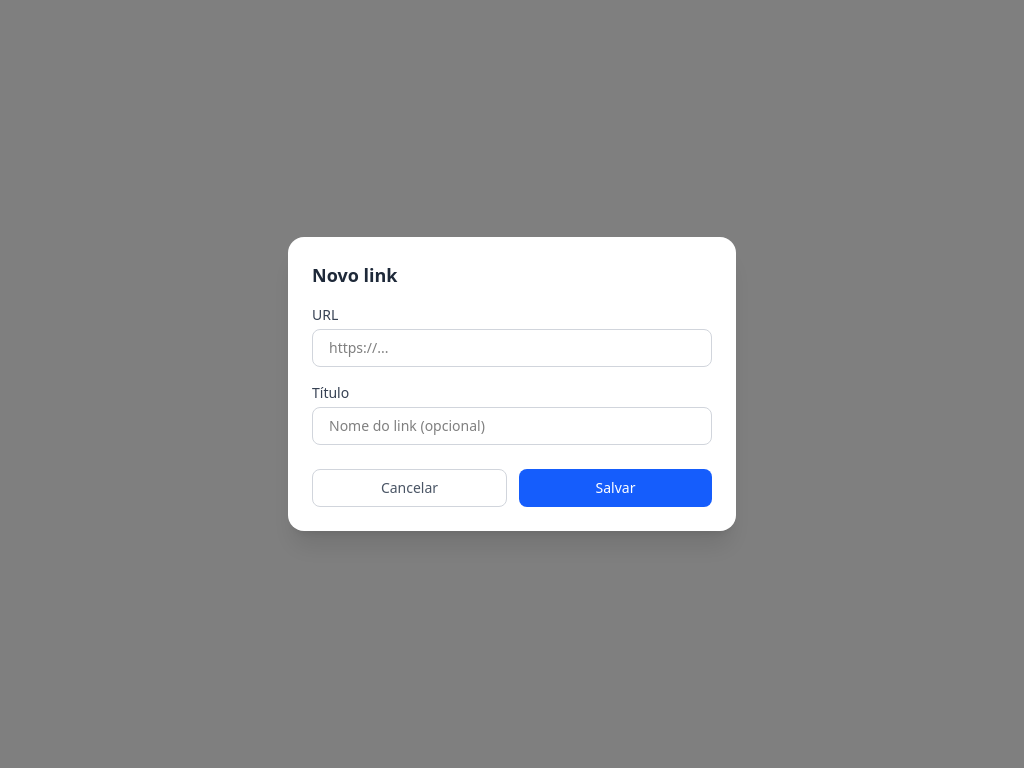
it: LinkModal › criação de link › deve exibir erro quando a API falhar
Type "https://github.com" into the field with placeholder "https://..." at (512, 348), box [312,329,712,367]
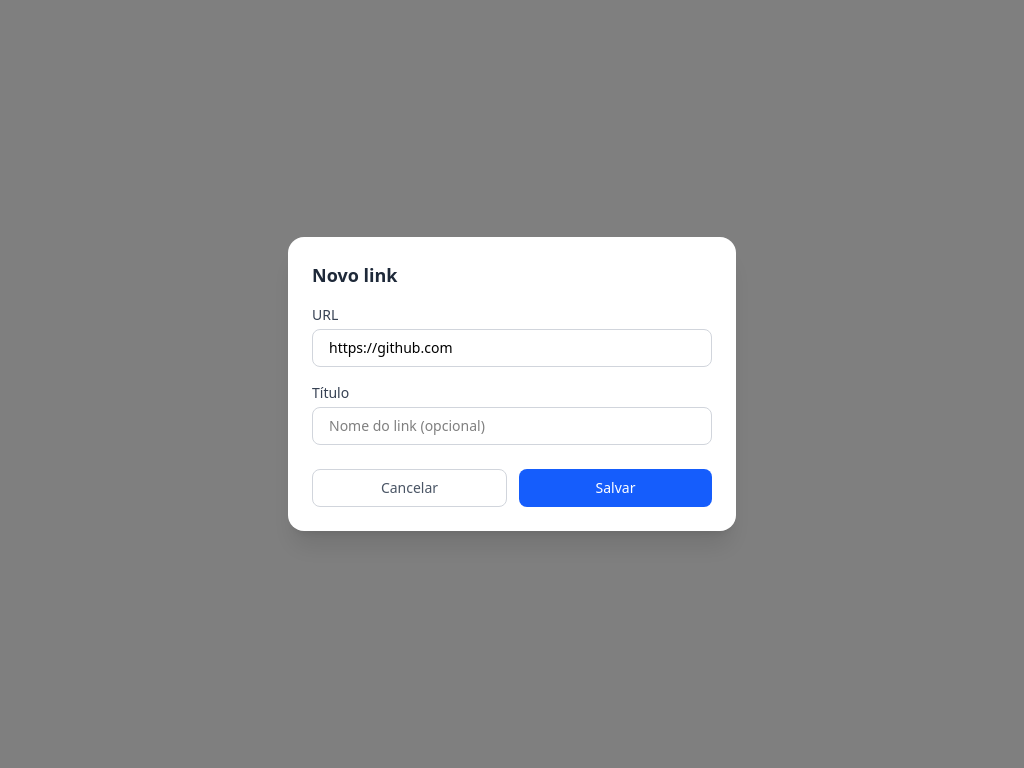
Click the button "Salvar" at (616, 488), box [519,469,712,507]
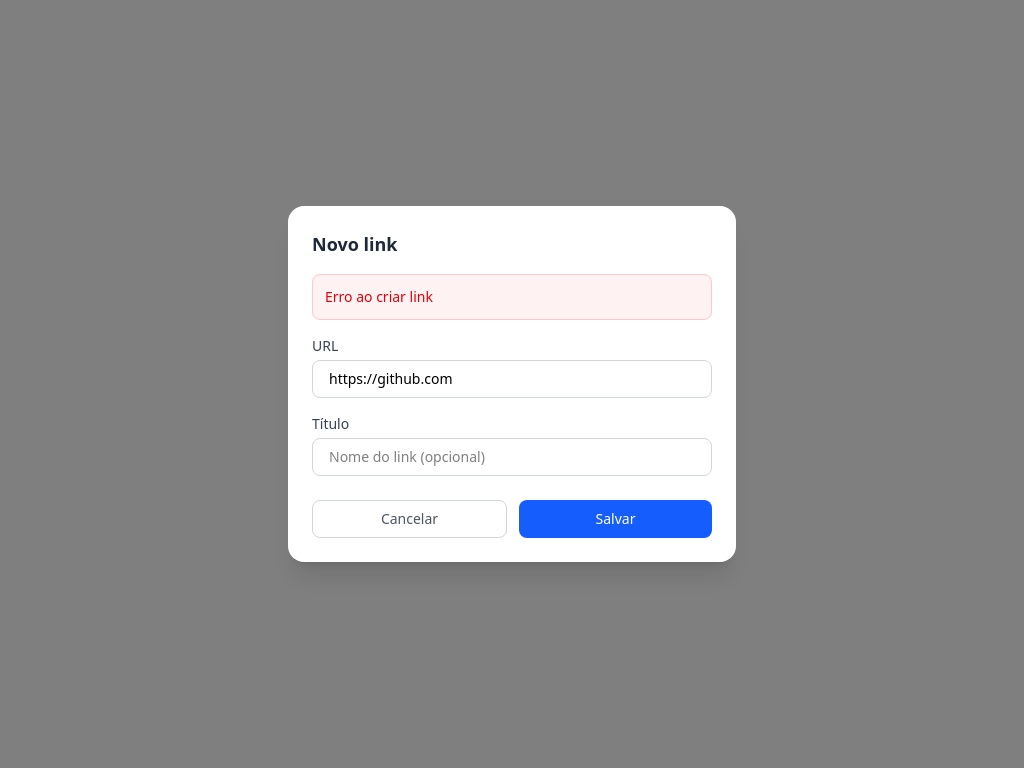
expect the text "Erro ao criar link" is shown: met, box [312,274,712,320]
